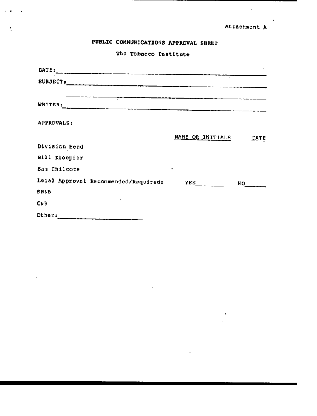textbox: (62, 102, 266, 113), (65, 90, 267, 101), (55, 67, 267, 77), (65, 79, 267, 89), (57, 213, 143, 222), (194, 180, 224, 187), (244, 181, 266, 188)
